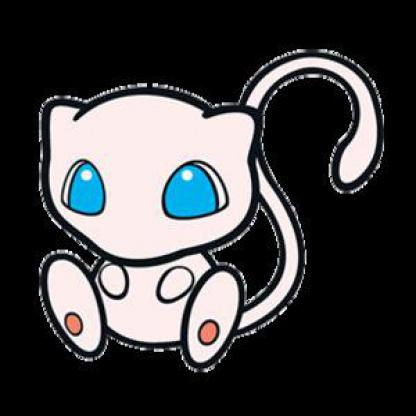Mew: (1, 16, 323, 399)
